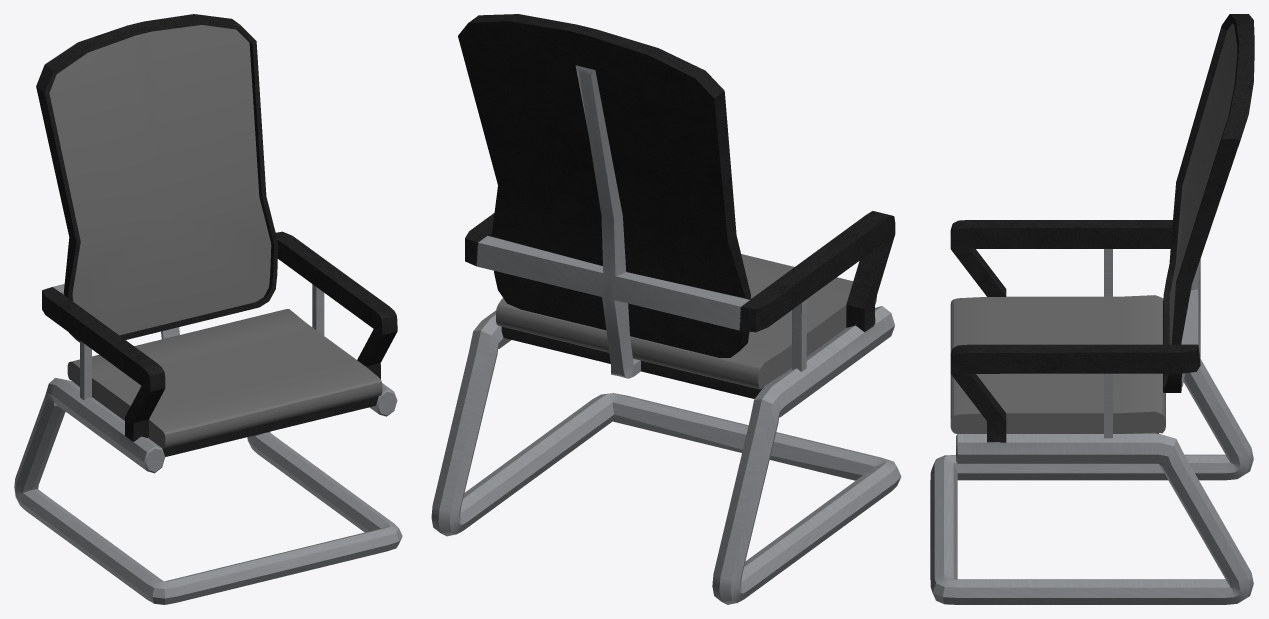
Rendered from OfficeChair.fbx.
3 renders of one model, left to right at view 1: azimuth 30°, elevation 25°; view 2: azimuth 150°, elevation 25°; view 3: azimuth 270°, elevation 25°, orthographic. The views are drawn at different scales.
Visible parts, largest first — view 1: Cylinder.002; view 2: Cylinder.002; view 3: Cylinder.002.
Part boxes in pixels (x1=…): Cylinder.002: x1=14, y1=14, x2=402, y2=604; Cylinder.002: x1=431, y1=14, x2=901, y2=604; Cylinder.002: x1=930, y1=14, x2=1254, y2=604.
Size of the model in its own units: 65.65 by 111 by 66.15.
1 material, 1 textured.
